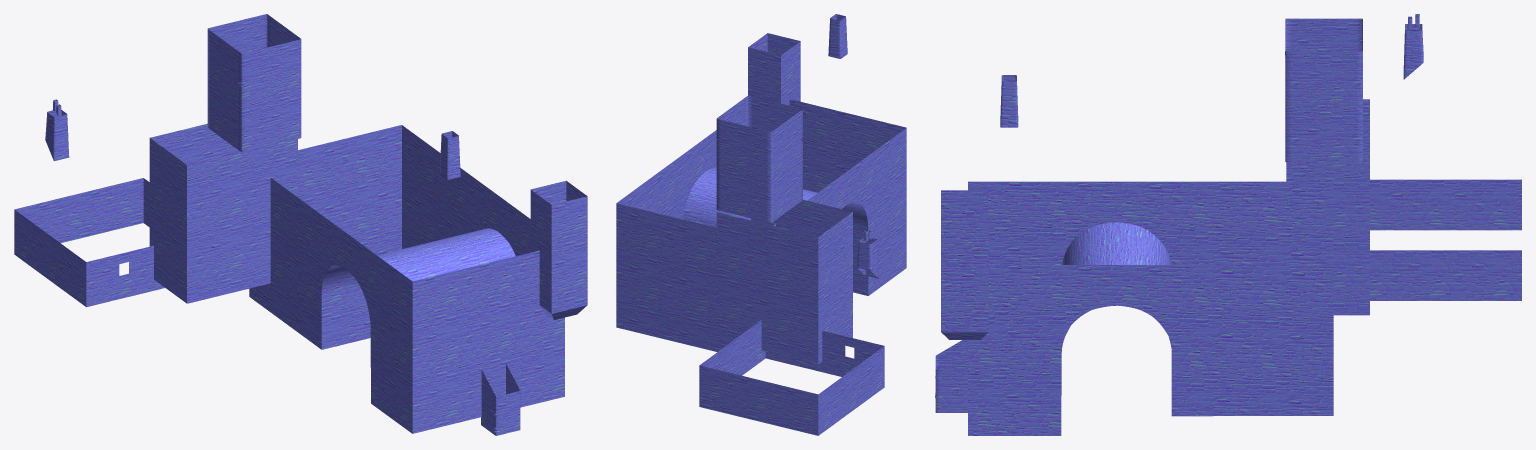
Rendered from Forest_building_056_07.fbx.
The picture shows the model from 3 angles, left to right: view 1: azimuth 30°, elevation 25°; view 2: azimuth 150°, elevation 25°; view 3: azimuth 270°, elevation 25°; orthographic projection. The views are drawn at different scales.
Parts seen in each view (by area): view 1: Forest_building_056_07; view 2: Forest_building_056_07; view 3: Forest_building_056_07.
Boxes of the visible parts, x1,y1,x2,y2 form: Forest_building_056_07: [14, 14, 587, 435]; Forest_building_056_07: [616, 14, 906, 435]; Forest_building_056_07: [935, 14, 1521, 435].
Size of the model in its own units: 2907 by 2479 by 4026.
1 material, 1 textured.
